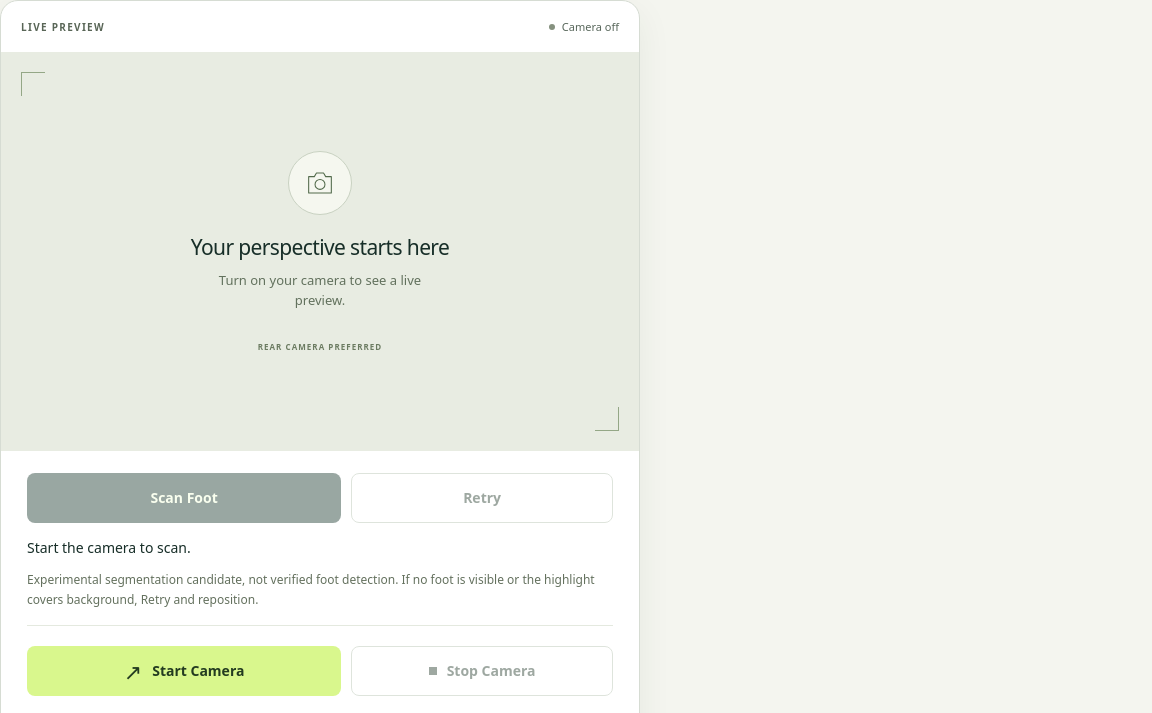
Test: CameraPreview › explains NotAllowedError and permits retry
This screenshot has width=1152, height=713.
What coordinates should you click on to do the following:
click the button "↗ Start Camera"
I would click on:
 (184, 671)
Its box is [27,646,341,696].
(page scrolled)
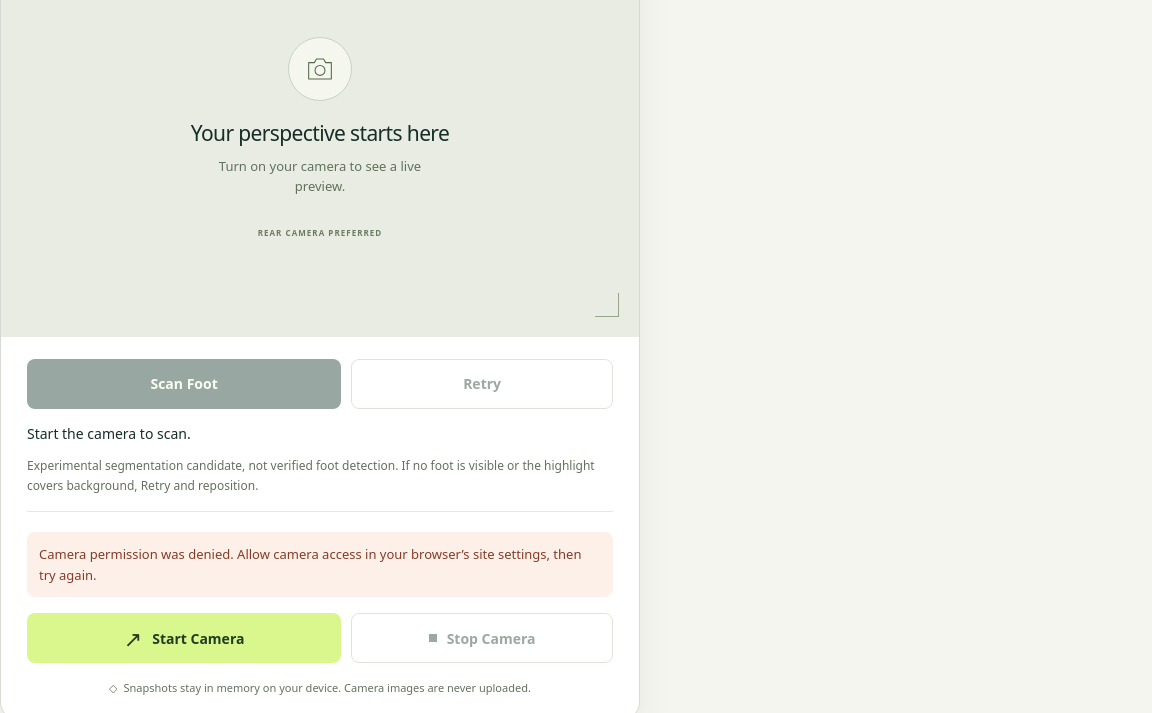
Check: the button "↗ Start Camera" is enabled, box [27,613,341,663]
Check: the 2nd message shows "permission was denied", box [39,545,582,584]
